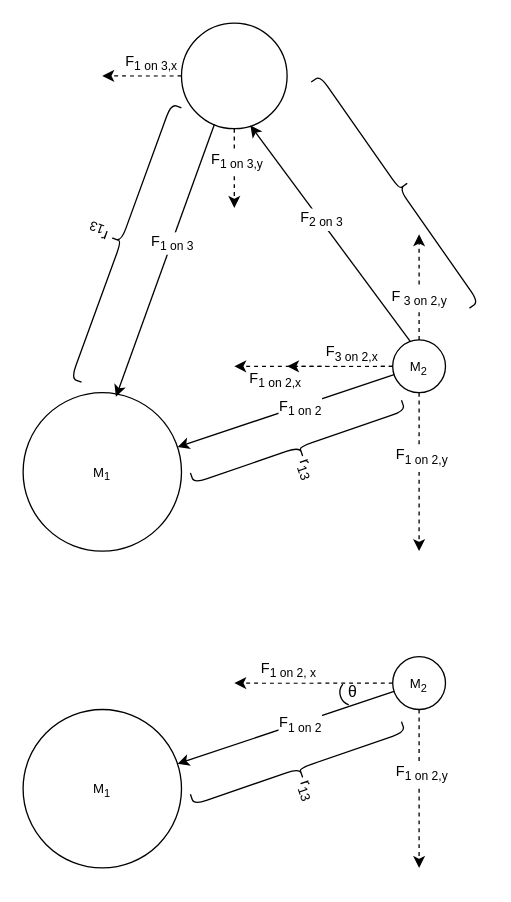
Image size: 511x902. Some labels were removed from this diagram. Here are the shapes that lost their labels. From the top down, the centre of each, then its label:
(233,75): M 3
(399,188): r 23
